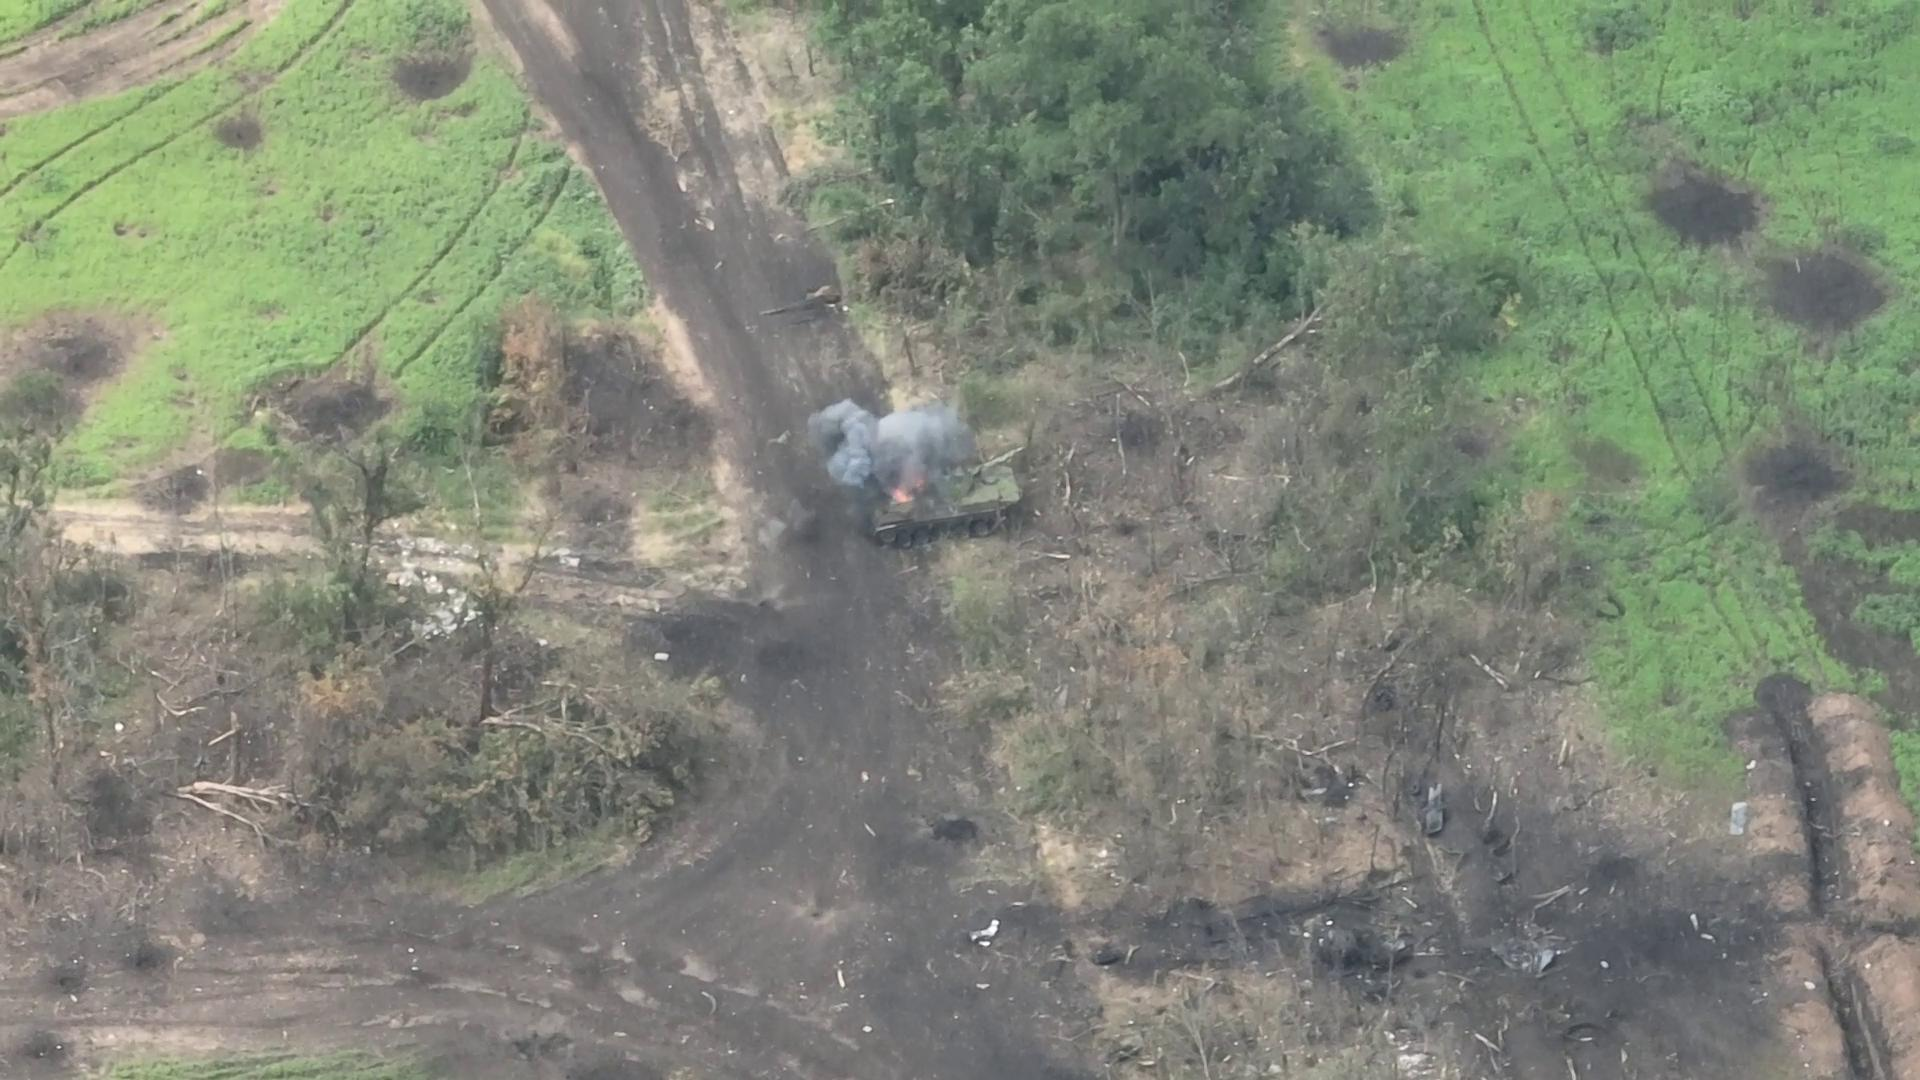tank: (861, 444, 1026, 554)
